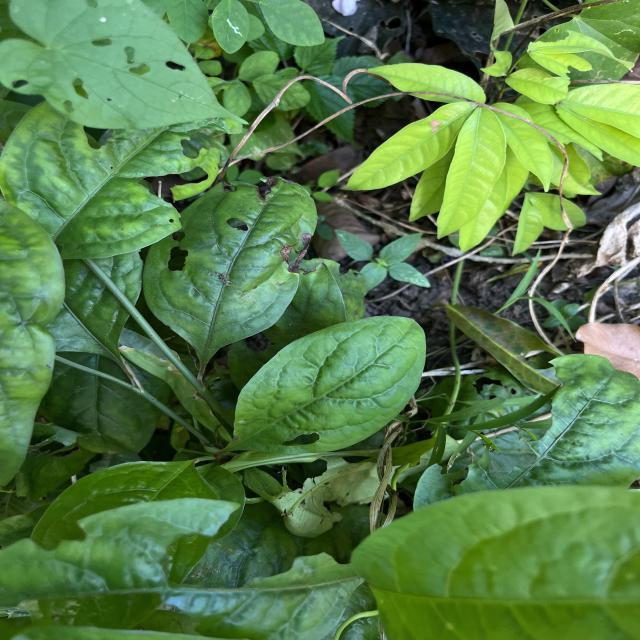Plumbago indica: (140, 167, 318, 355), (231, 312, 433, 461)
